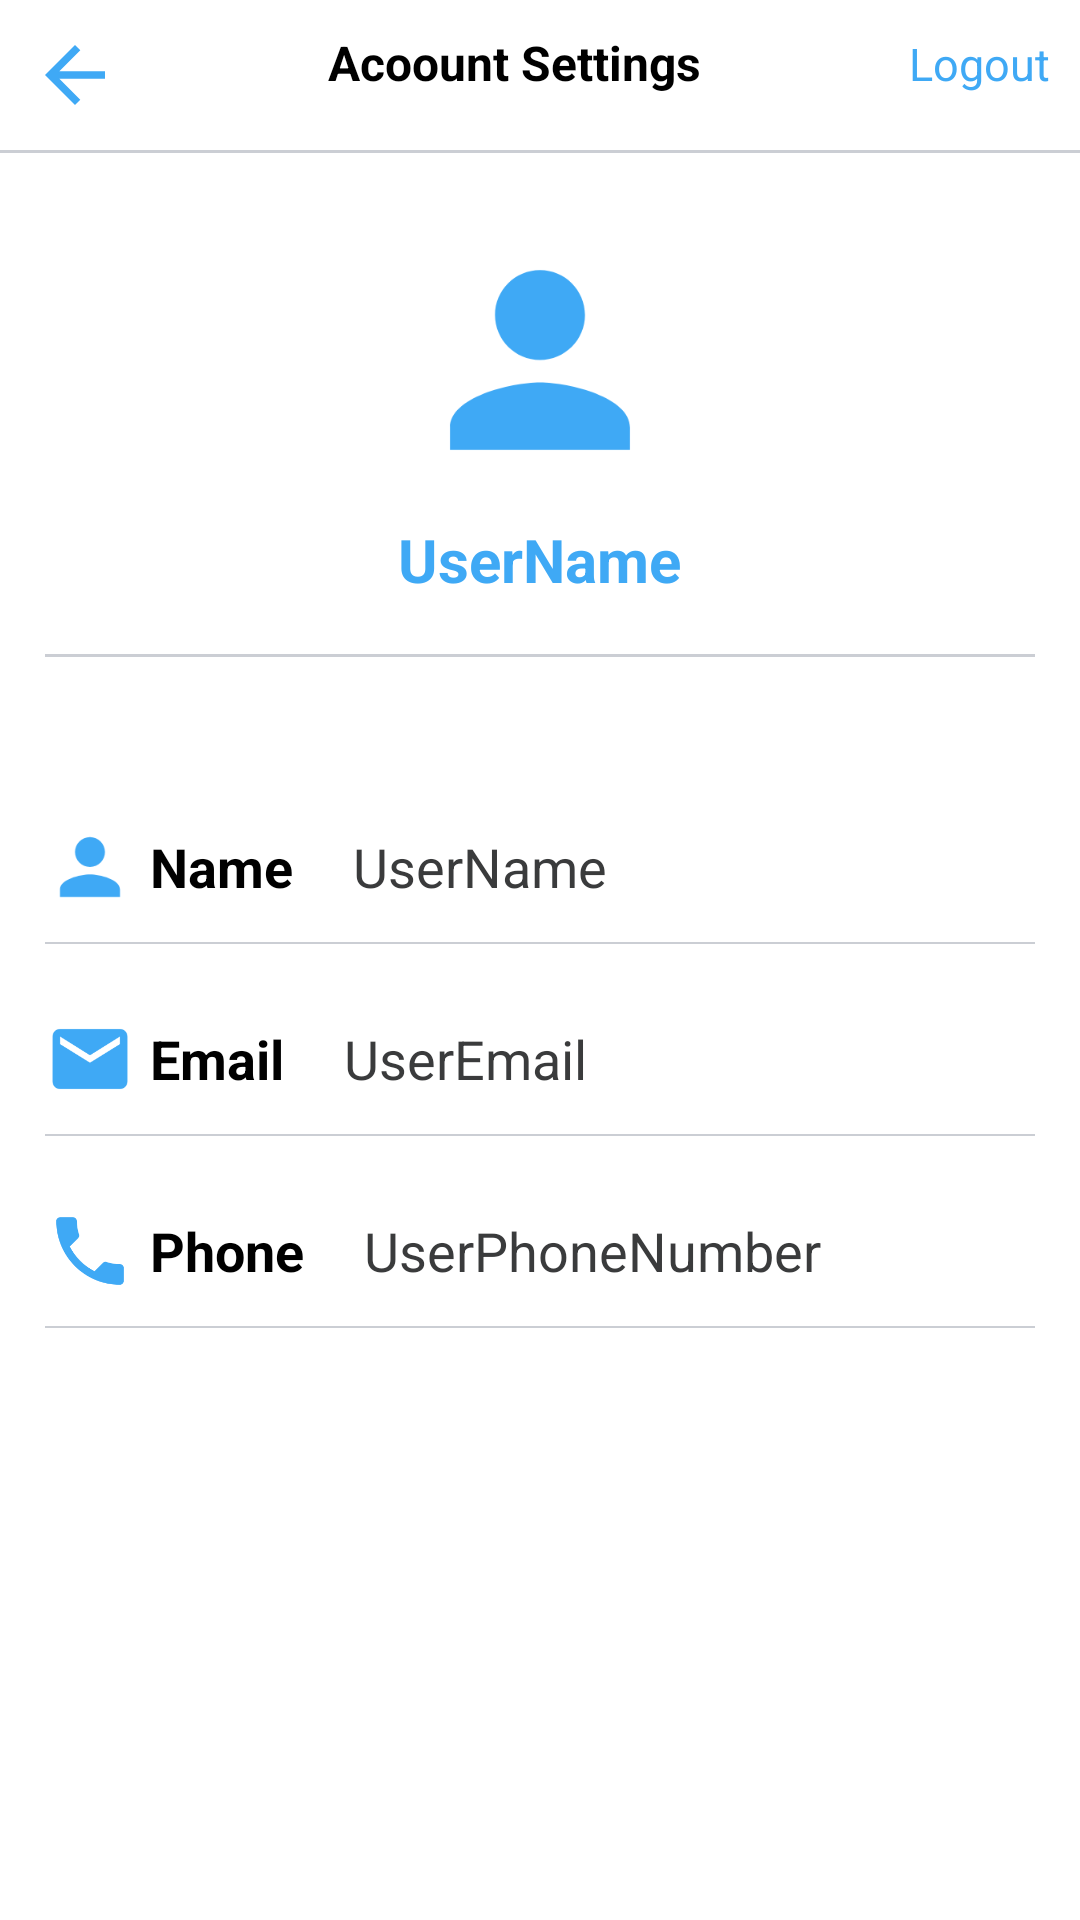

Where icons sit on this 1080 x 1920 app screen, as {"left": x1, "top": y1, "right": x2, "bottom": y2}:
arrow back: {"left": 45, "top": 45, "right": 105, "bottom": 105}
person: {"left": 450, "top": 270, "right": 630, "bottom": 450}, {"left": 59, "top": 837, "right": 121, "bottom": 898}
